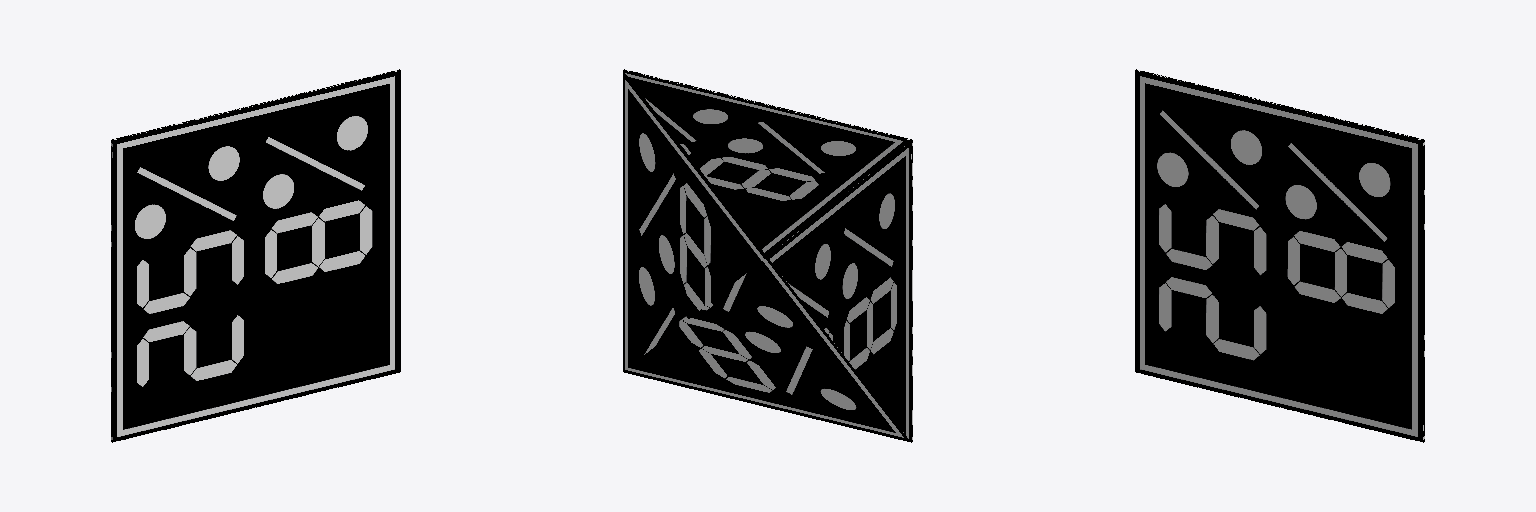
3 renders of one model, left to right at view 1: azimuth 30°, elevation 25°; view 2: azimuth 150°, elevation 25°; view 3: azimuth 330°, elevation 25°, orthographic.
Visible parts, largest first — view 1: measure_gas_2_Body1.025_Body1.021; view 2: measure_gas_2_Body1.025_Body1.021; view 3: measure_gas_2_Body1.025_Body1.021.
Boxes of the visible parts, <box> form: measure_gas_2_Body1.025_Body1.021: <box>111,69,400,442</box>; measure_gas_2_Body1.025_Body1.021: <box>623,69,912,442</box>; measure_gas_2_Body1.025_Body1.021: <box>1135,69,1424,442</box>.
Size of the model in its own units: 0.11 by 0.11 by 0.001.
1 materials, 1 textured.